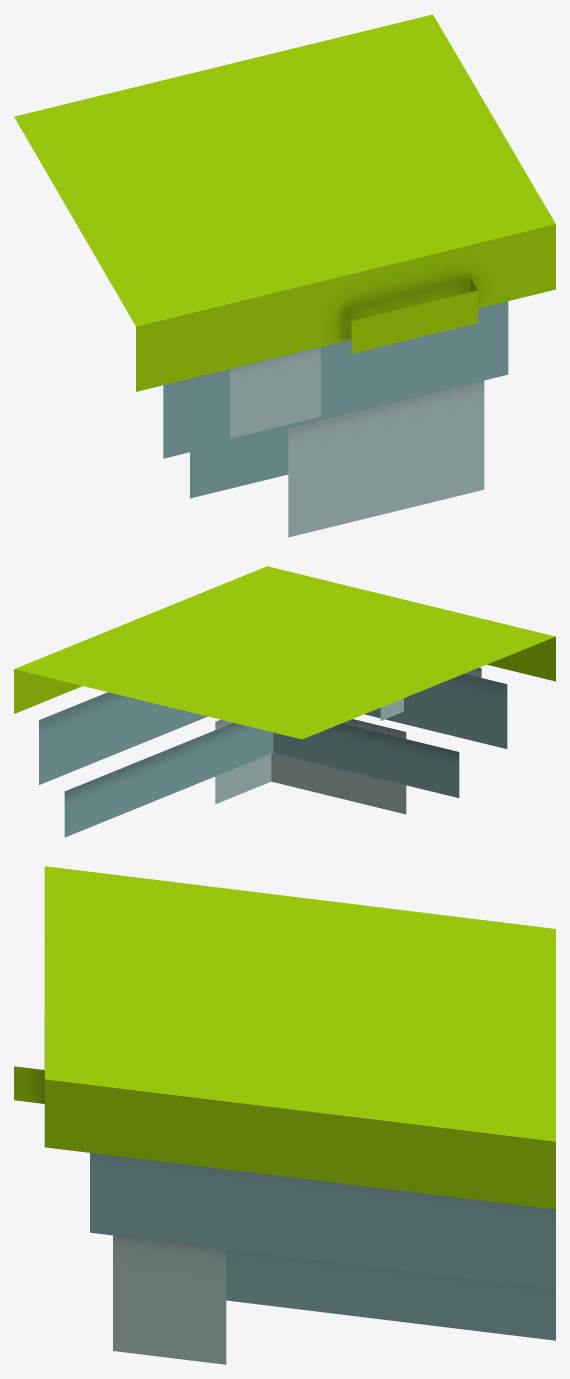
The model's file is Field_Type_03_03.FBX.
The picture shows the model from 3 angles, top to bottom: view 1: azimuth 30°, elevation 25°; view 2: azimuth 150°, elevation 25°; view 3: azimuth 270°, elevation 25°; orthographic projection. The views are drawn at different scales.
Visible parts, largest first — view 1: Field_Type_03_03; view 2: Field_Type_03_03; view 3: Field_Type_03_03.
Boxes of the visible parts, x1,y1,x2,y2 form: Field_Type_03_03: (14, 14, 555, 537); Field_Type_03_03: (14, 566, 555, 837); Field_Type_03_03: (14, 866, 555, 1364).
Size of the model in its own units: 13.76 by 6.79 by 11.44.
